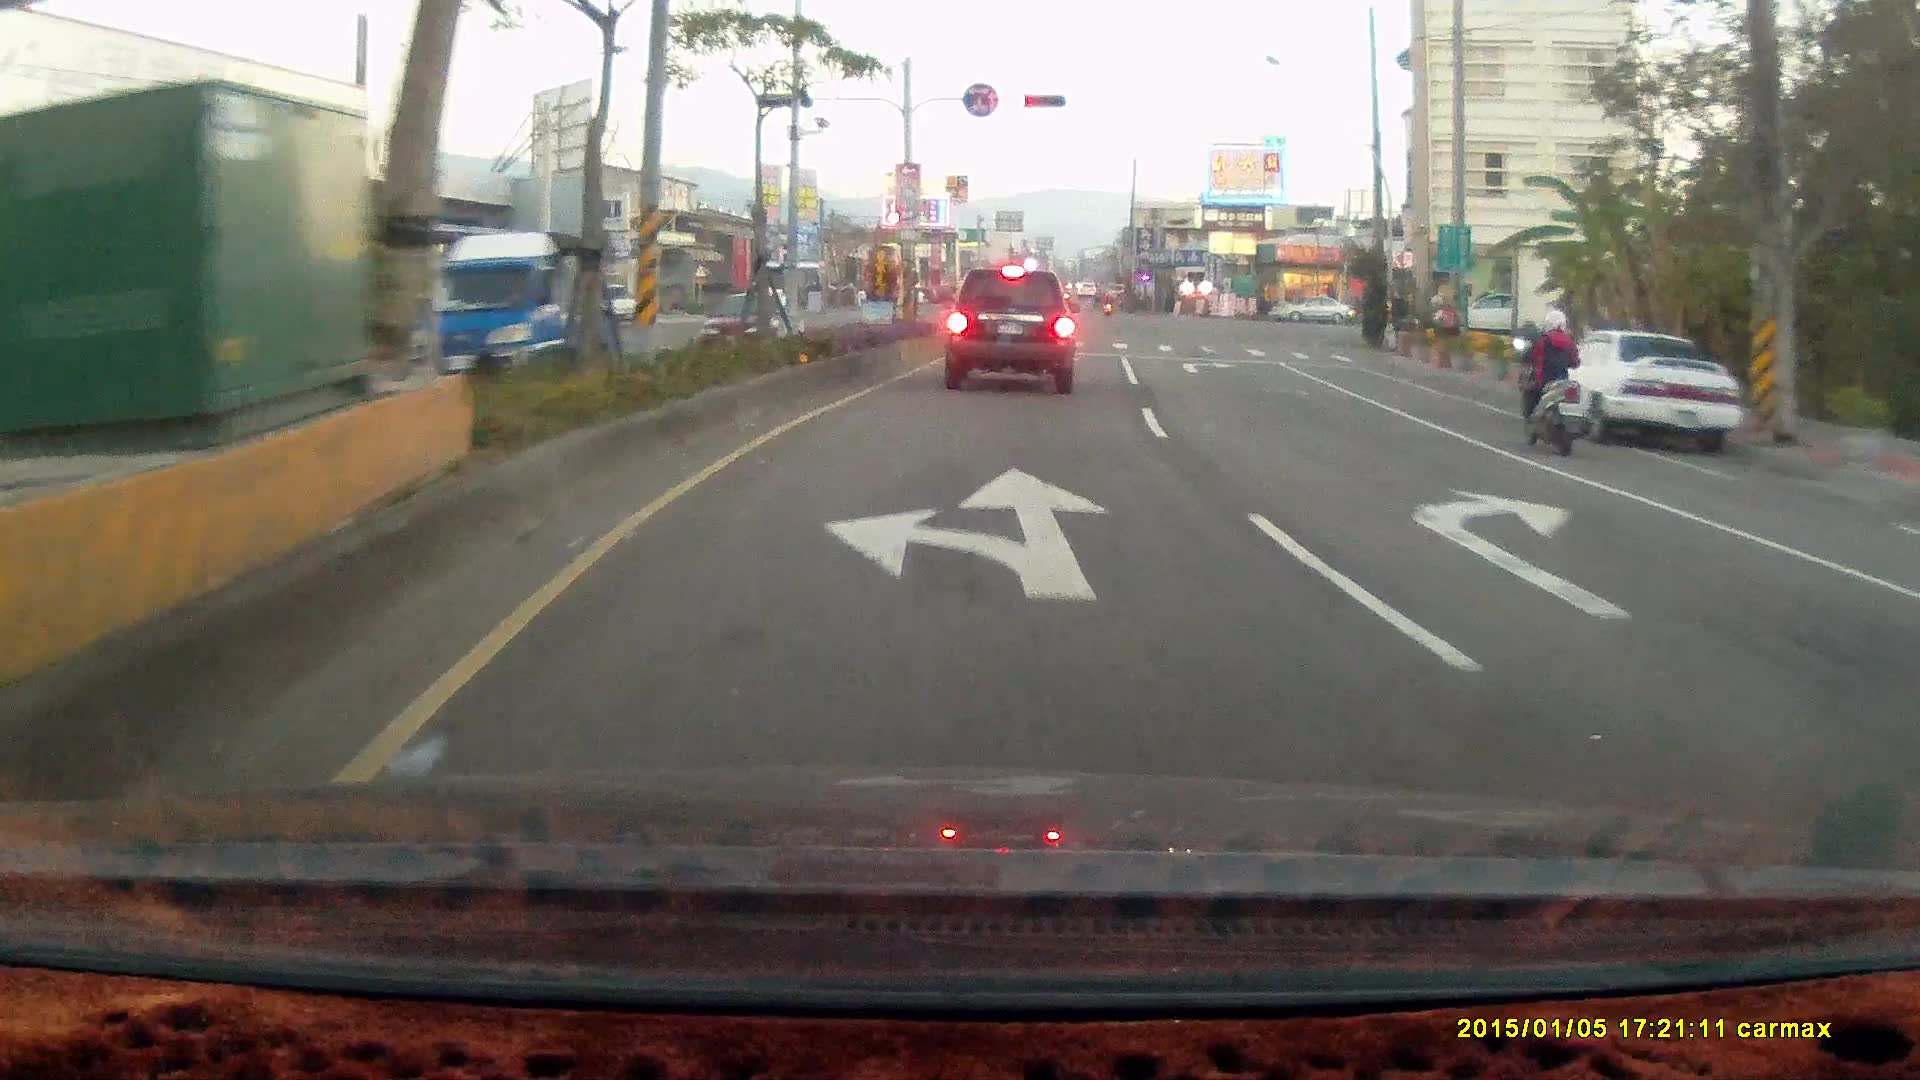rider: (1507, 308, 1587, 456)
vehicle: (401, 232, 621, 381), (1534, 327, 1743, 453), (1542, 329, 1749, 448), (942, 266, 1078, 394), (1896, 493, 1920, 836), (1883, 528, 1920, 690), (1437, 288, 1540, 336), (1267, 292, 1353, 325)
